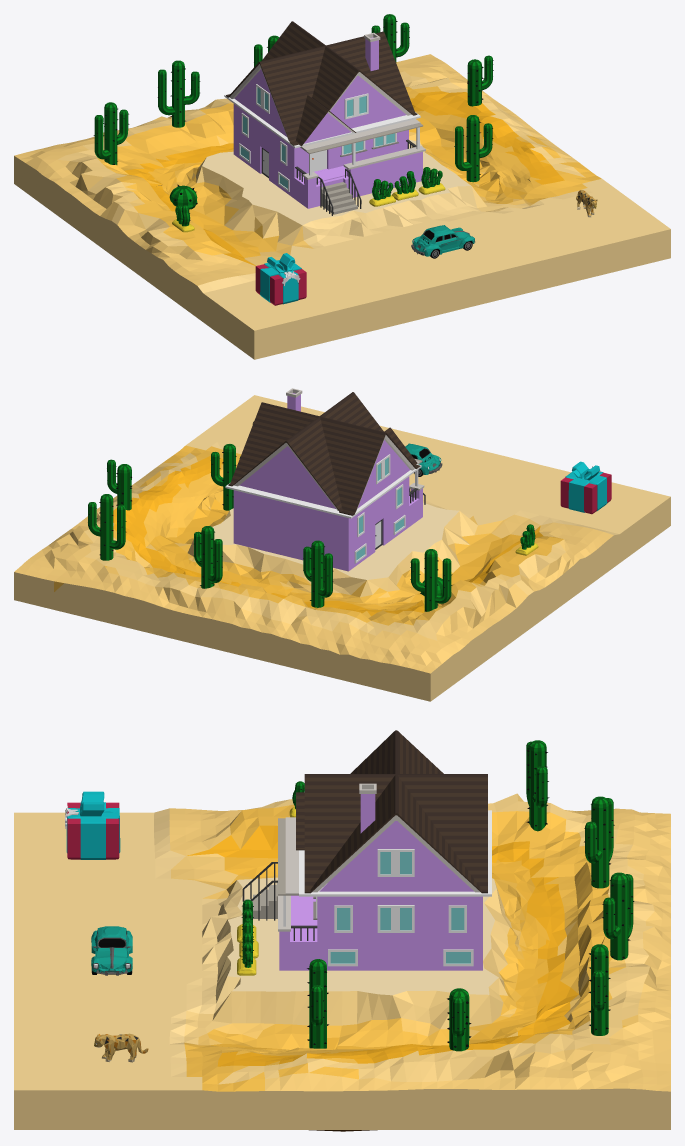
3 views of the same model, one above another, from view 1: azimuth 30°, elevation 25°; view 2: azimuth 150°, elevation 25°; view 3: azimuth 270°, elevation 25° (orthographic). The views are drawn at different scales.
Parts seen in each view (by area): view 1: Cube.001, Cube.391, OBJRANDOM_GIANT_PRESENT, Cylinder.037, Cylinder.044, Cylinder.045, VEHICLES_VOLKSWAGEN, Cylinder.038, Cylinder.042, Cylinder.039, Cylinder.041, Sphere.023 (+1 smaller); view 2: Cube.001, Cube.391, OBJRANDOM_GIANT_PRESENT, Cylinder.042, Cylinder.045, Cylinder.044, Cylinder.043, Cylinder.037, Cylinder.038, VEHICLES_VOLKSWAGEN; view 3: Cube.001, Cube.391, OBJRANDOM_GIANT_PRESENT, Cylinder.043, Cylinder.044, VEHICLES_VOLKSWAGEN, Cylinder.045, Cylinder.042, Cylinder.037, Cylinder.038, ANIMAL_JAGUAR, Cylinder.041.
Boxes of the visible parts, x1,y1,x2,y2 form: Cube.001: (14,54,670,359); Cube.391: (224,21,425,215); OBJRANDOM_GIANT_PRESENT: (255,253,306,305); Cylinder.037: (454,115,493,182); Cylinder.044: (157,60,200,127); Cylinder.045: (93,102,129,164); VEHICLES_VOLKSWAGEN: (411,225,475,258); Cylinder.038: (467,55,493,106); Cylinder.042: (371,14,409,62); Cylinder.039: (369,179,395,206); Cylinder.041: (418,167,445,194); Sphere.023: (169,184,197,209); Cube.001: (14,395,670,701); Cube.391: (225,388,425,571); OBJRANDOM_GIANT_PRESENT: (560,461,611,514); Cylinder.042: (88,494,126,560); Cylinder.045: (410,549,452,611); Cylinder.044: (303,540,333,607); Cylinder.043: (193,526,222,588); Cylinder.037: (211,444,240,510); Cylinder.038: (107,459,131,510); VEHICLES_VOLKSWAGEN: (405,443,442,476); Cube.001: (14,793,670,1129); Cube.391: (242,730,491,970); OBJRANDOM_GIANT_PRESENT: (65,791,120,859); Cylinder.043: (602,872,634,960); Cylinder.044: (584,796,614,888); VEHICLES_VOLKSWAGEN: (91,926,132,975); Cylinder.045: (526,740,549,831); Cylinder.042: (588,944,610,1035); Cylinder.037: (307,959,328,1048); Cylinder.038: (447,988,471,1051); ANIMAL_JAGUAR: (94,1033,148,1062); Cylinder.041: (237,932,256,975).
Bounding box in the file's own units: 4002 × 1693 × 4001.
36 materials, 2 textured.
